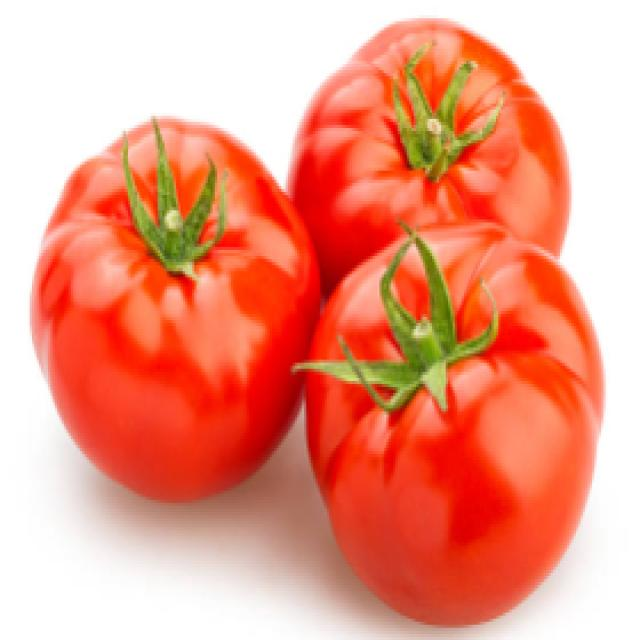Tomato: (31, 112, 320, 491), (316, 233, 594, 616), (304, 20, 575, 308)
